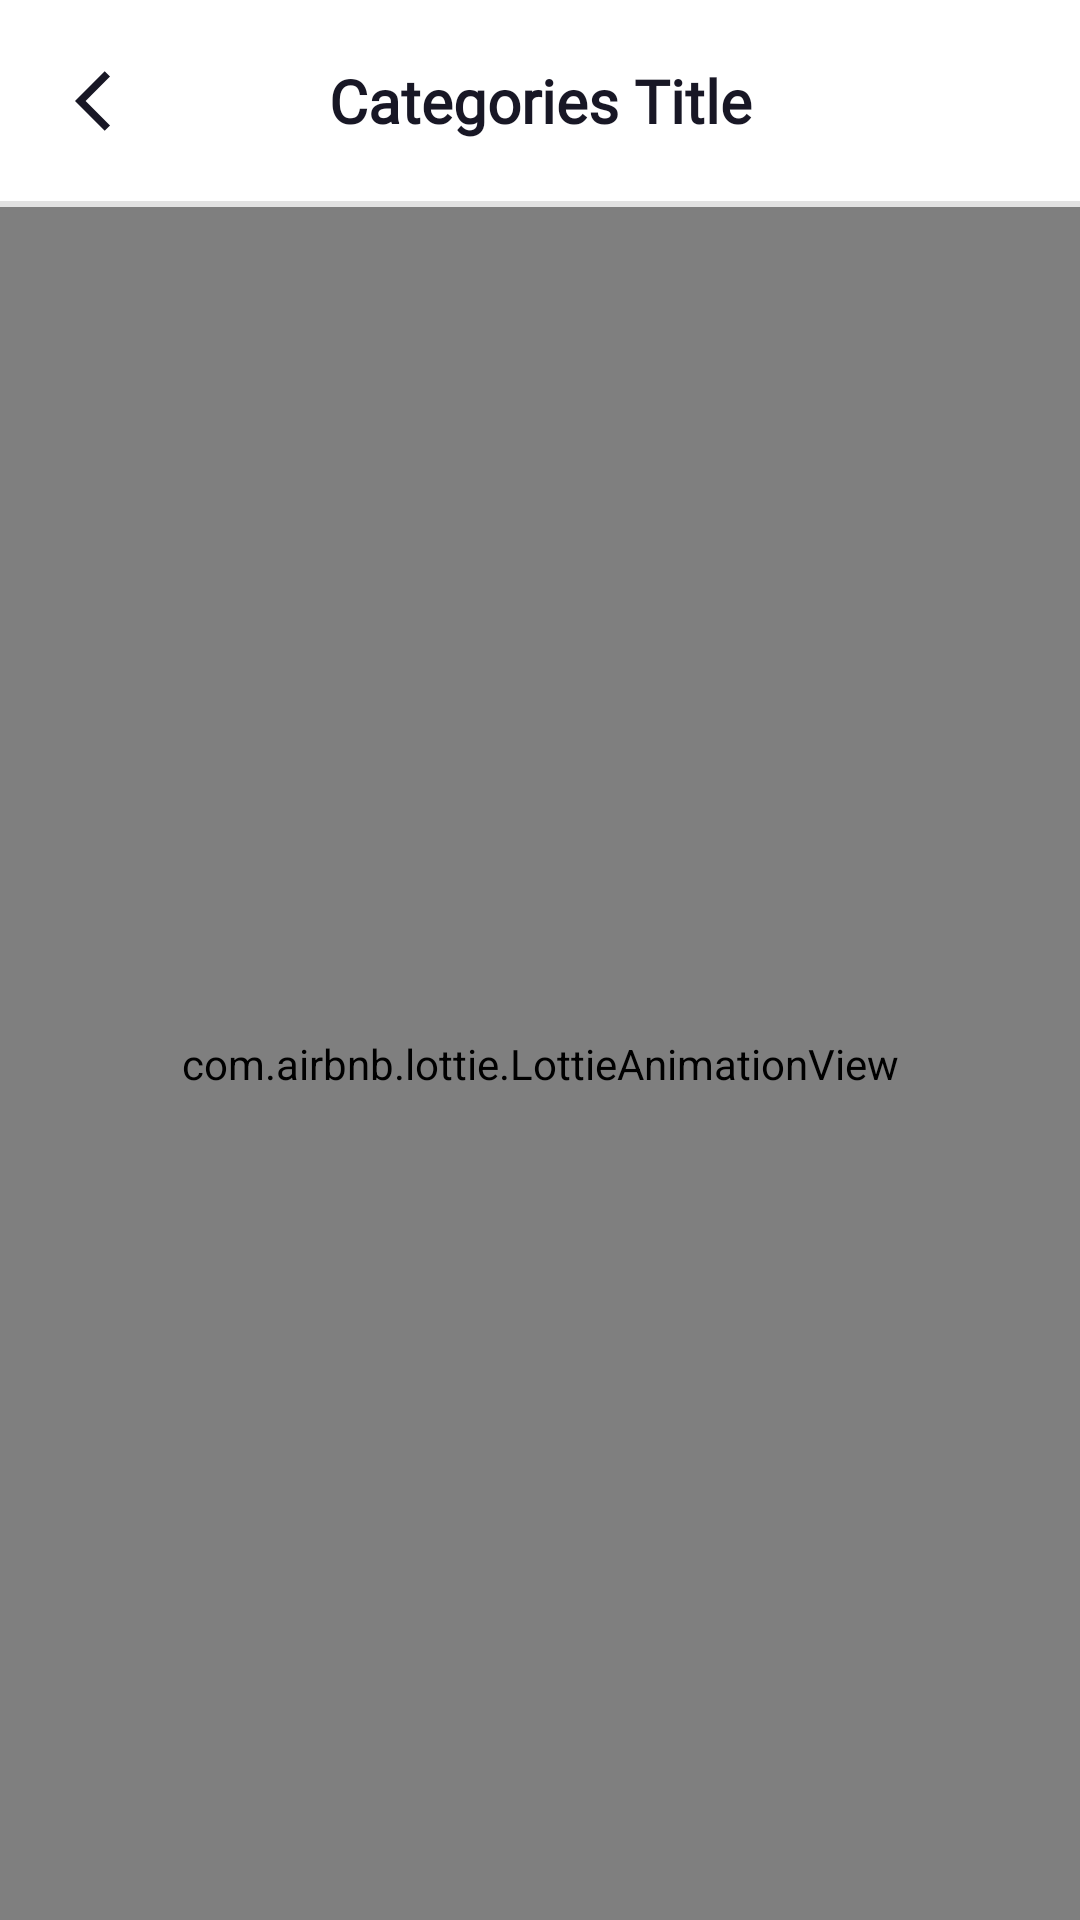

Screen size 1080px x 1920px. Icon name, then its center in pixels as (x,y):
arrow back: (92,101)
